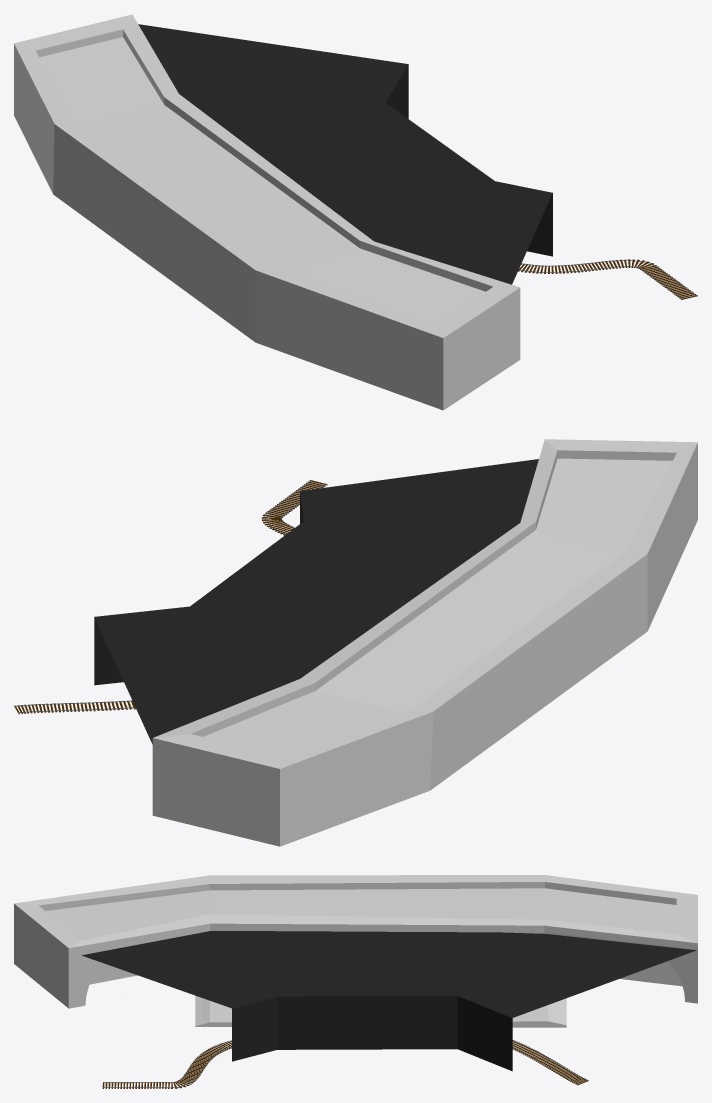
Rendered from SecretBuildings.glb.
3 views of the same model, one above another, from view 1: azimuth 30°, elevation 25°; view 2: azimuth 150°, elevation 25°; view 3: azimuth 270°, elevation 25° (orthographic). The views are drawn at different scales.
Visible parts, largest first — view 1: SecretBuildings, ClosedRailWay, TrainRailsmCurve; view 2: SecretBuildings, ClosedRailWay, TrainRailsmCurve; view 3: ClosedRailWay, SecretBuildings, TrainRailsmCurve, SecretFloor.
Part boxes in pixels (bbox=[...]): SecretBuildings: bbox=[14, 14, 520, 410]; ClosedRailWay: bbox=[138, 24, 552, 284]; TrainRailsmCurve: bbox=[518, 259, 697, 299]; SecretBuildings: bbox=[152, 439, 697, 846]; ClosedRailWay: bbox=[94, 459, 538, 744]; TrainRailsmCurve: bbox=[14, 480, 327, 714]; ClosedRailWay: bbox=[81, 931, 696, 1071]; SecretBuildings: bbox=[14, 875, 697, 1008]; TrainRailsmCurve: bbox=[102, 1040, 588, 1088]; SecretFloor: bbox=[195, 995, 566, 1027].
Size of the model in its own units: 93.1 by 18 by 174.
Materials: 3 (1 with a texture image).
